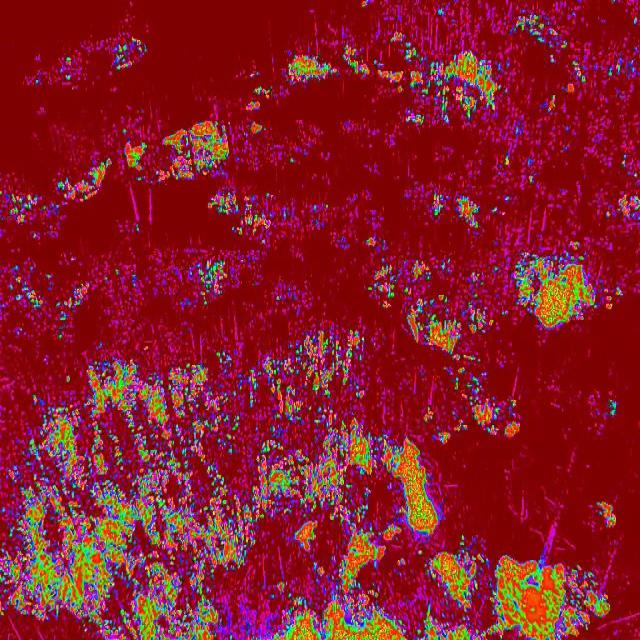fire: (0, 324, 386, 640), (274, 49, 516, 128), (444, 541, 618, 640), (386, 426, 443, 640), (376, 259, 496, 356), (511, 243, 613, 336), (114, 119, 234, 186), (10, 156, 114, 232), (428, 381, 522, 447), (568, 57, 640, 101), (207, 192, 278, 236), (188, 248, 240, 306), (432, 196, 482, 236), (112, 30, 152, 70), (603, 194, 640, 234), (520, 16, 566, 48), (596, 498, 620, 532)
